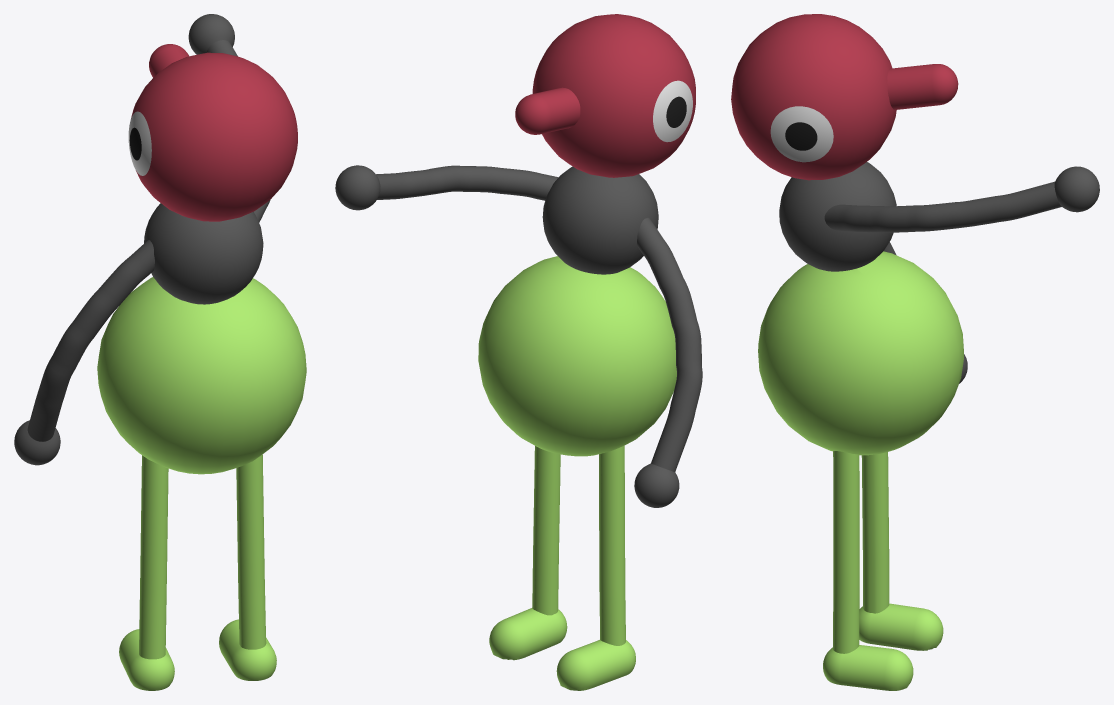
The model's file is BigWalkPoint.fbx.
3 views of the same model, side by side, from view 1: azimuth 30°, elevation 25°; view 2: azimuth 150°, elevation 25°; view 3: azimuth 270°, elevation 25° (orthographic). The views are drawn at different scales.
Parts seen in each view (by area): view 1: Cylinder.001; view 2: Cylinder.001; view 3: Cylinder.001.
Boxes of the visible parts, left/top/right/bottom form: Cylinder.001: left=14, top=14, right=306, bottom=690; Cylinder.001: left=335, top=14, right=702, bottom=690; Cylinder.001: left=731, top=14, right=1099, bottom=690.
Size of the model in its own units: 0.8729 by 0.7585 by 1.64.
